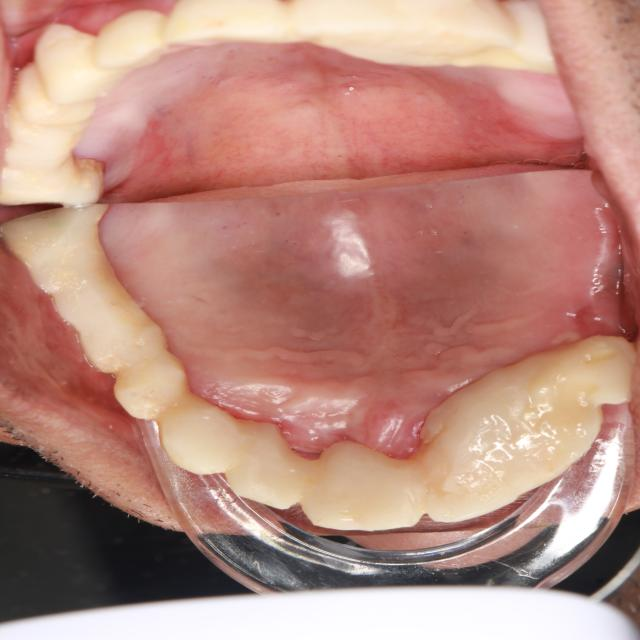tooth: (419, 350, 617, 500), (289, 428, 447, 540), (2, 200, 148, 287), (405, 428, 528, 530), (214, 410, 322, 519), (535, 312, 640, 417), (147, 392, 252, 487), (19, 277, 197, 332), (77, 348, 206, 423), (57, 318, 197, 380)
